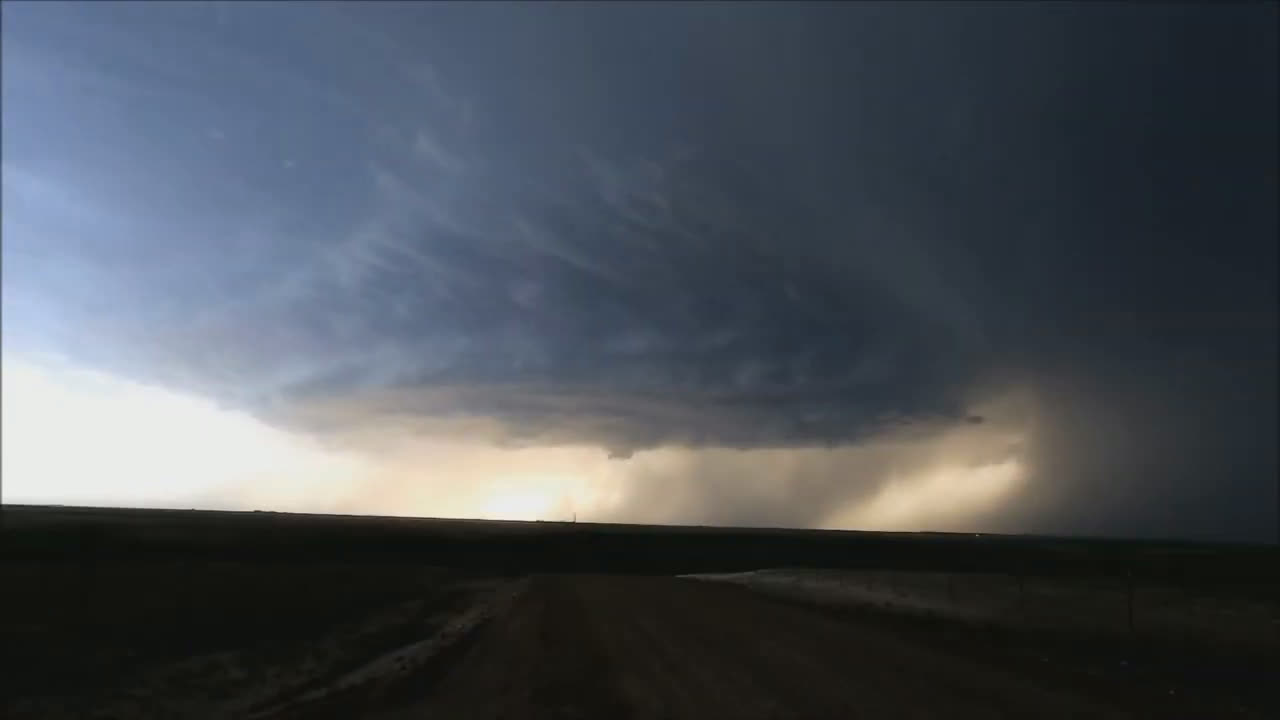FFD: (985, 377, 1280, 553)
RFD: (604, 431, 918, 533)
mesocyclone: (229, 0, 990, 457)
striations: (252, 349, 864, 441)
wall cloud: (447, 430, 871, 461)
